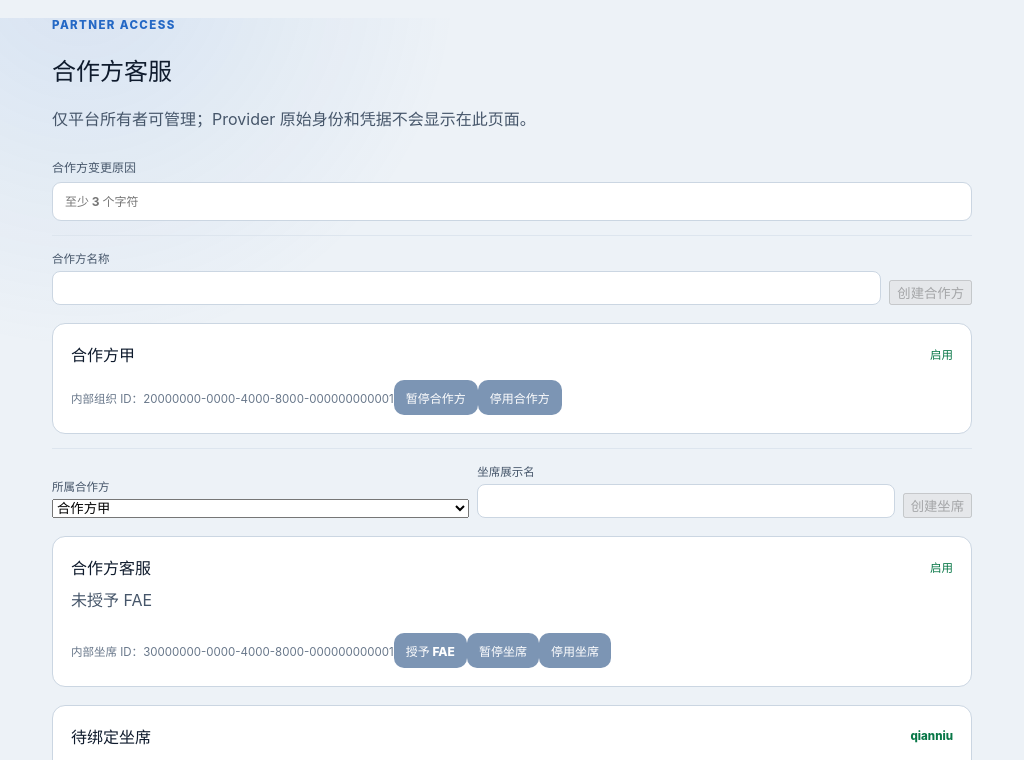
PartnerAccessPanel › requires and accepts an explicit binding target with one operator
The image size is (1024, 760).
Type "名单核验通过" into the field named "合作方变更原因". click: [512, 202]
box: left=52, top=182, right=972, bottom=221
(page scrolled)
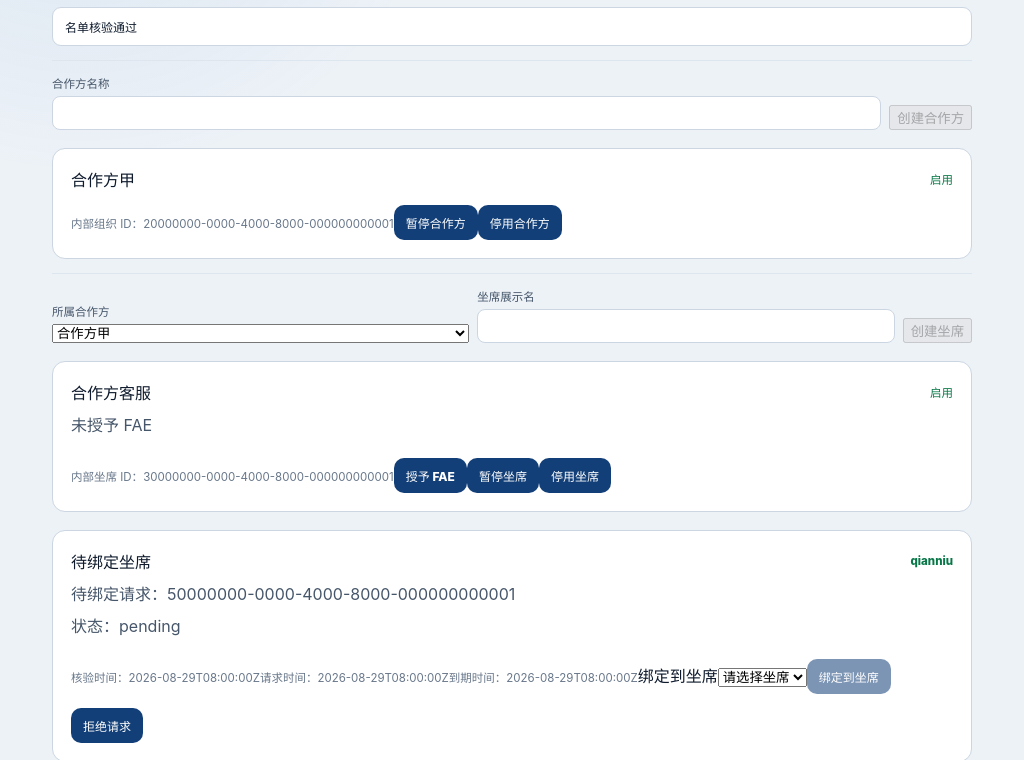
Expected: the button "绑定到坐席" is disabled, left=807, top=659, right=891, bottom=694
Select "合作方客服" in the dropdown labelled "绑定到坐席". click: [762, 678]
box: left=718, top=668, right=807, bottom=687
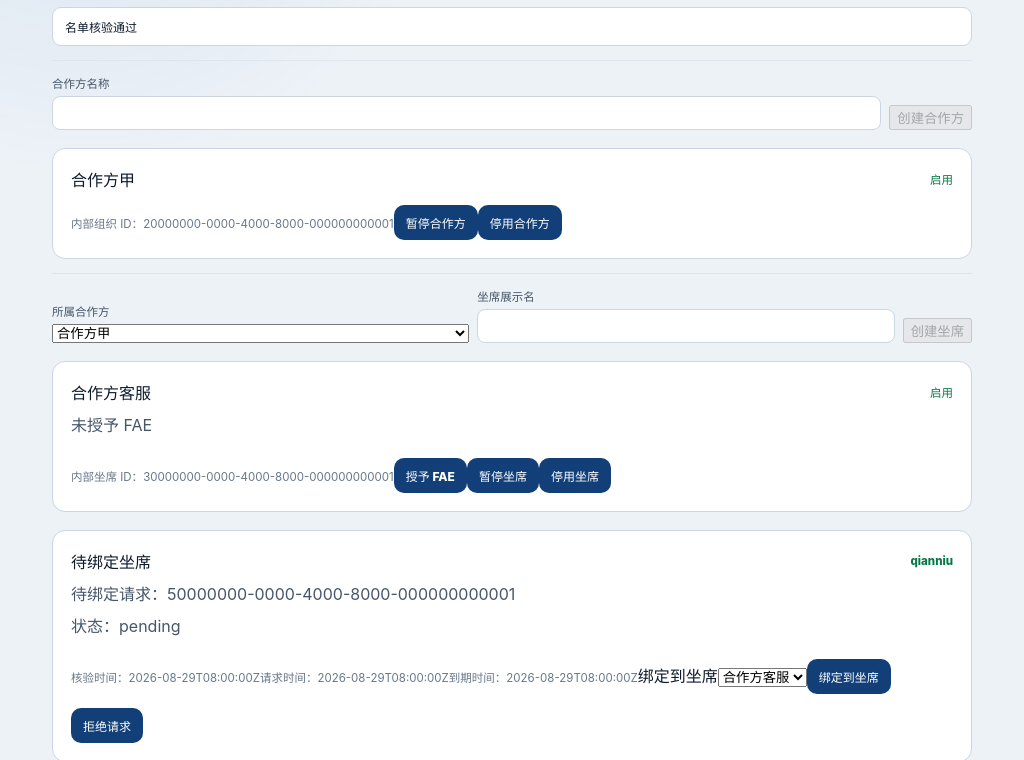
Expected: the button "绑定到坐席" is enabled
Click the button "绑定到坐席". click: [849, 677]
box: left=807, top=659, right=891, bottom=694
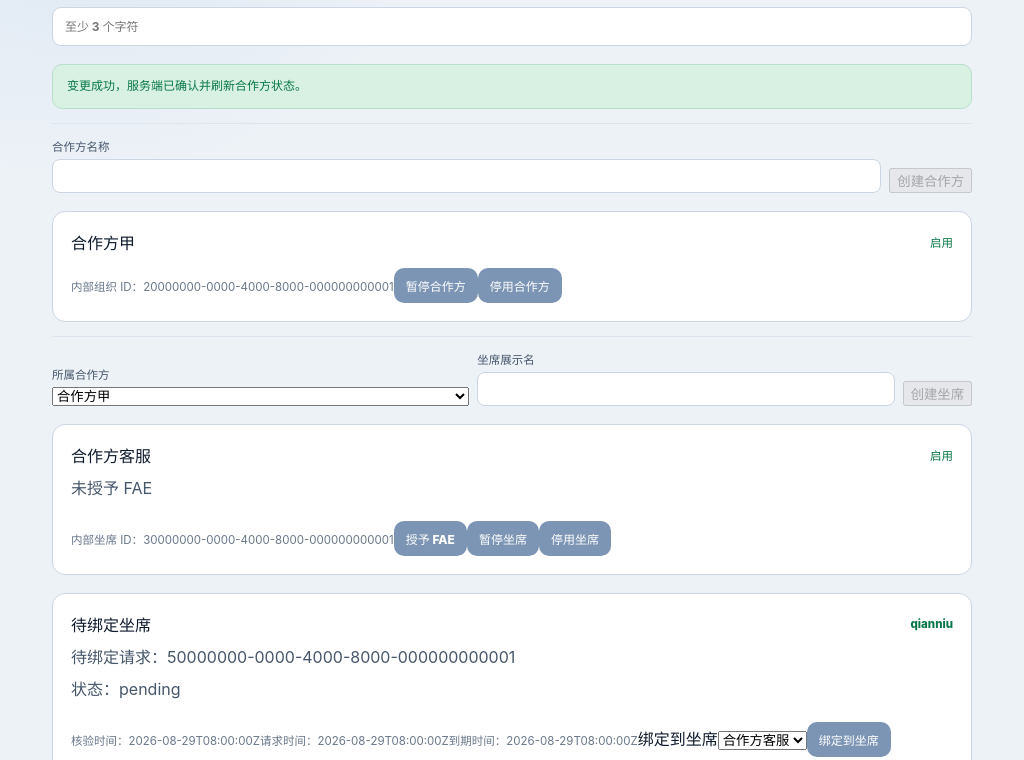
Expected: the text "变更成功" is shown, left=67, top=78, right=307, bottom=93
